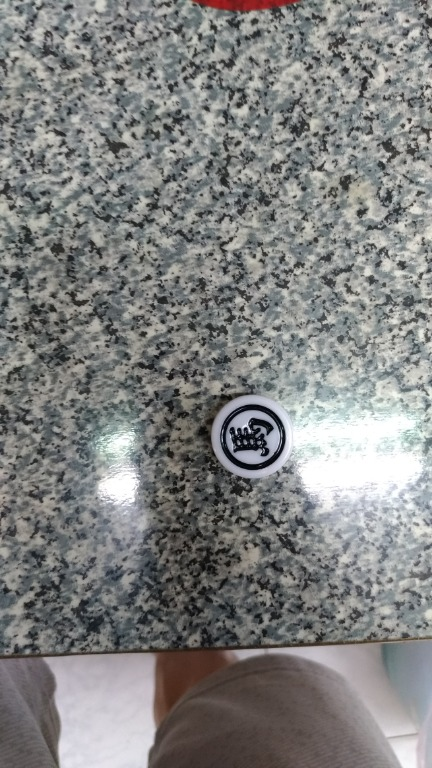b-knight: (193, 386, 318, 490)
